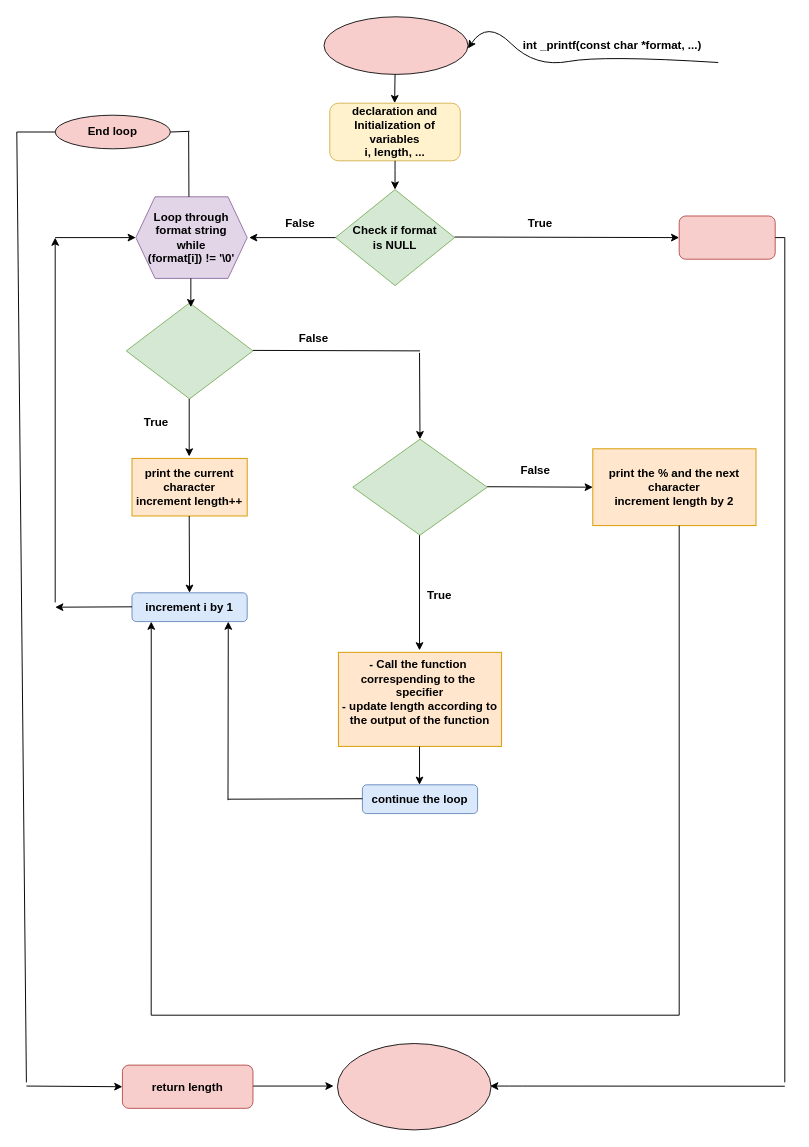
This 809x1147 diagram has some shape labels left out. Here are the shapes that lost their labels. From the top down, the centre of each, then its label:
[395,45]: Start
[726,237]: Return -1
[189,350]: Check if the current character is different to %
[419,486]: Check if the next char % is i, d, c, s or %
[413,1086]: End
